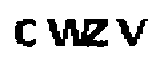c: (11, 17, 39, 51)
v: (116, 15, 153, 53)
w: (41, 14, 90, 53)
z: (88, 17, 111, 51)
